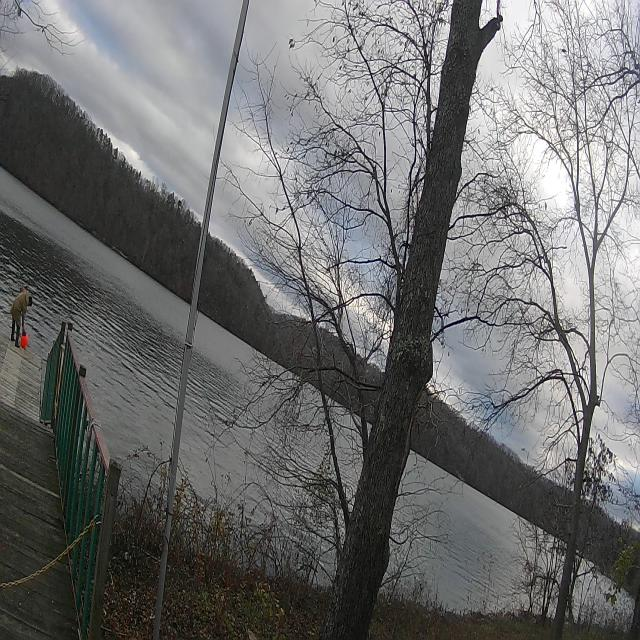Buoy: (18, 334, 30, 350)
